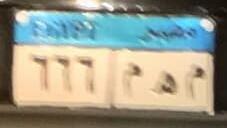6: (77, 56, 101, 94), (54, 55, 74, 92), (32, 55, 50, 92)
haa: (153, 68, 180, 100)
meem: (120, 63, 145, 97), (186, 63, 207, 99)
